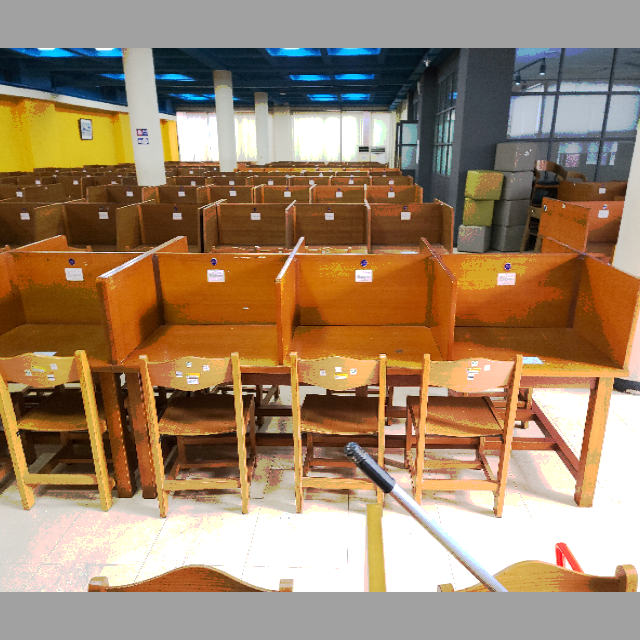empty: (458, 244, 633, 456), (108, 236, 282, 437), (287, 238, 452, 442)
